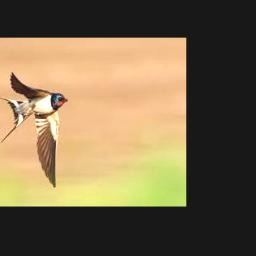Swallow: (0, 72, 69, 188)
